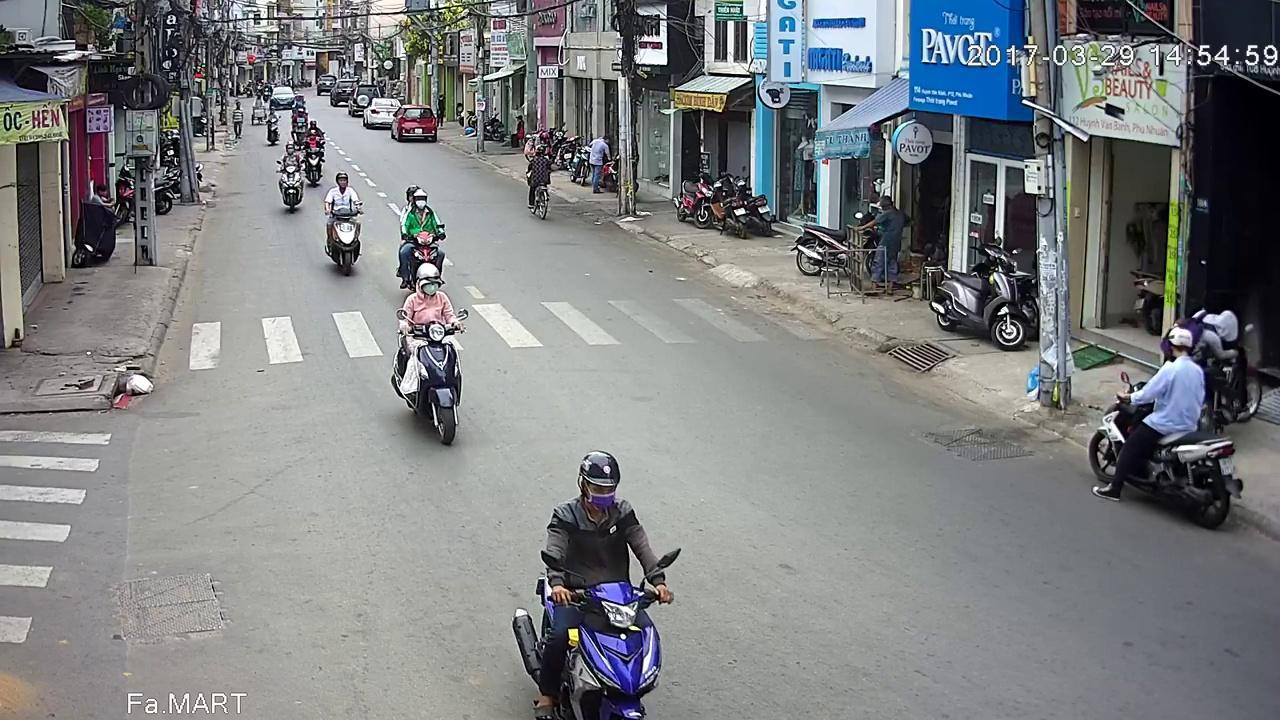xe dap: (527, 145, 552, 219)
xe hoi: (393, 106, 441, 146)
xe may: (520, 418, 693, 720), (1084, 329, 1235, 536), (391, 257, 464, 447), (394, 190, 445, 300), (325, 168, 364, 276), (277, 146, 305, 219), (303, 117, 326, 177)
